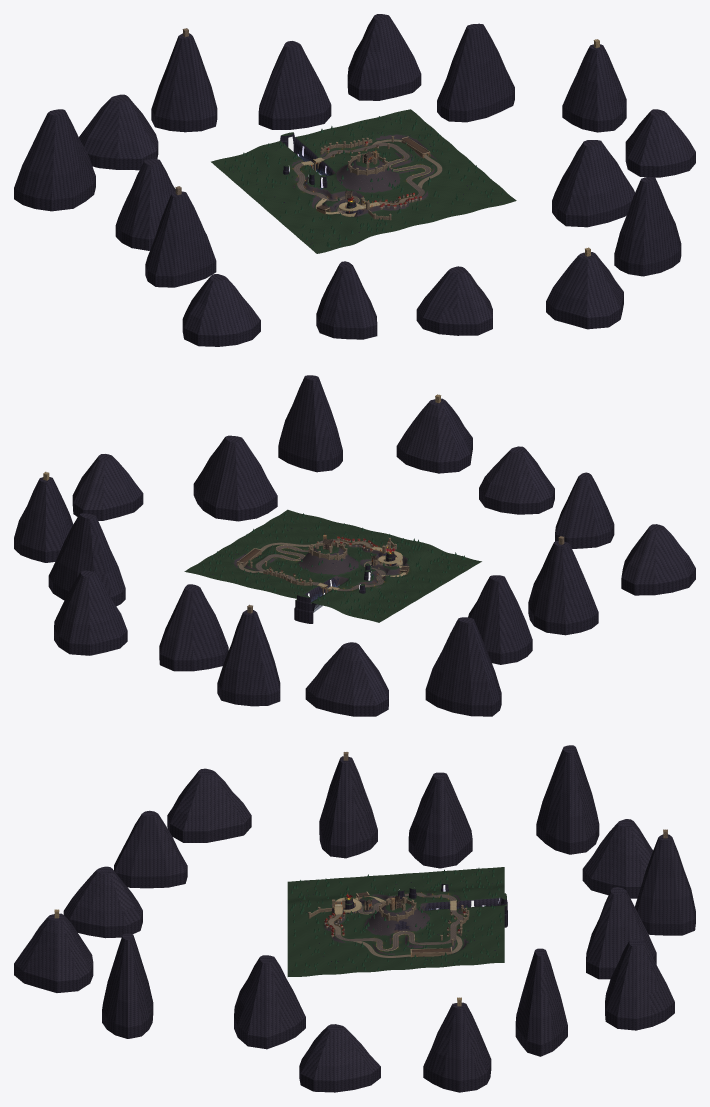
The picture shows the model from 3 angles, top to bottom: view 1: azimuth 30°, elevation 25°; view 2: azimuth 150°, elevation 25°; view 3: azimuth 270°, elevation 25°; orthographic projection. The views are drawn at different scales.
Visible parts, largest first — view 1: Land, Far Peak 6, Far Peak 1, Far Peak 14, Far Peak 8, Far Peak 13, Far Peak 2, Far Peak 4, Far Peak 3, Far Peak 12, Far Peak 5, Far Peak 9 (+6 smaller); view 2: Land, Far Peak 6, Far Peak 14, Far Peak 8, Far Peak 2, Far Peak 5, Far Peak 13, Far Peak 3, Far Peak 4, Far Peak 12, Far Peak 9, Far Peak 1 (+5 smaller); view 3: Land, Far Peak 14, Far Peak 6, Far Peak 2, Far Peak 12, Far Peak 9, Far Peak 7, Far Peak 4, Far Peak 0, Far Peak 8, Far Peak 15, Far Peak 10 (+6 smaller).
Part boxes in pixels (x1=…): Land: x1=211, y1=109, x2=516, y2=253; Far Peak 6: x1=14, y1=109, x2=95, y2=211; Far Peak 1: x1=437, y1=23, x2=514, y2=122; Far Peak 14: x1=552, y1=140, x2=634, y2=227; Far Peak 8: x1=145, y1=191, x2=216, y2=287; Far Peak 13: x1=614, y1=177, x2=681, y2=276; Far Peak 2: x1=347, y1=14, x2=421, y2=100; Far Peak 4: x1=151, y1=33, x2=217, y2=132; Far Peak 3: x1=258, y1=41, x2=331, y2=129; Far Peak 12: x1=546, y1=252, x2=623, y2=329; Far Peak 5: x1=79, y1=94, x2=158, y2=170; Far Peak 9: x1=182, y1=274, x2=260, y2=346; Land: x1=184, y1=509, x2=481, y2=622; Far Peak 6: x1=425, y1=617, x2=501, y2=716; Far Peak 14: x1=193, y1=435, x2=277, y2=521; Far Peak 8: x1=528, y1=541, x2=598, y2=635; Far Peak 2: x1=54, y1=570, x2=127, y2=655; Far Peak 5: x1=305, y1=642, x2=388, y2=716; Far Peak 13: x1=278, y1=375, x2=342, y2=472; Far Peak 3: x1=159, y1=584, x2=228, y2=671; Far Peak 4: x1=217, y1=610, x2=280, y2=706; Far Peak 12: x1=396, y1=398, x2=472, y2=473; Far Peak 9: x1=621, y1=524, x2=695, y2=595; Far Peak 1: x1=48, y1=513, x2=125, y2=606; Land: x1=287, y1=867, x2=504, y2=976; Far Peak 14: x1=234, y1=955, x2=305, y2=1049; Far Peak 6: x1=536, y1=745, x2=599, y2=854; Far Peak 2: x1=605, y1=939, x2=674, y2=1030; Far Peak 12: x1=14, y1=913, x2=93, y2=992; Far Peak 9: x1=167, y1=768, x2=251, y2=842; Far Peak 7: x1=408, y1=772, x2=472, y2=868; Far Peak 4: x1=635, y1=834, x2=695, y2=935; Far Peak 0: x1=423, y1=1002, x2=491, y2=1092; Far Peak 8: x1=319, y1=756, x2=377, y2=858; Far Peak 15: x1=299, y1=1024, x2=380, y2=1092; Far Peak 10: x1=114, y1=810, x2=187, y2=888.
Bounding box in the file's own units: 2094 × 320 × 2136.
Materials: 35 (35 with a texture image).
